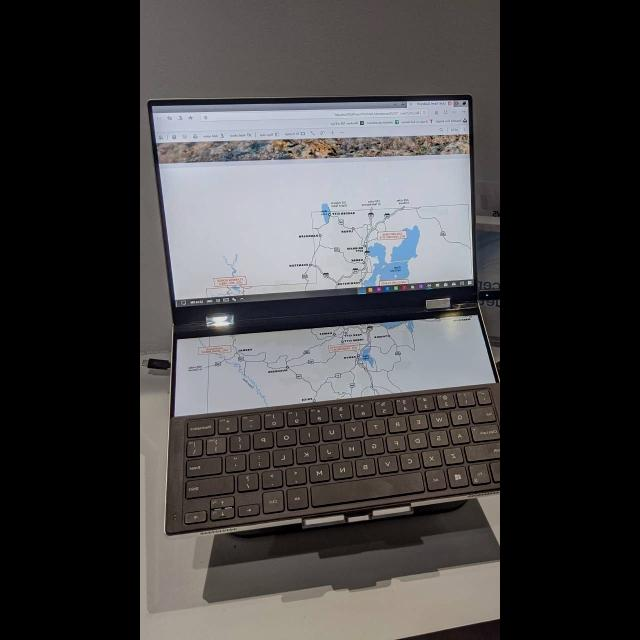laptop: (148, 92, 500, 534)
